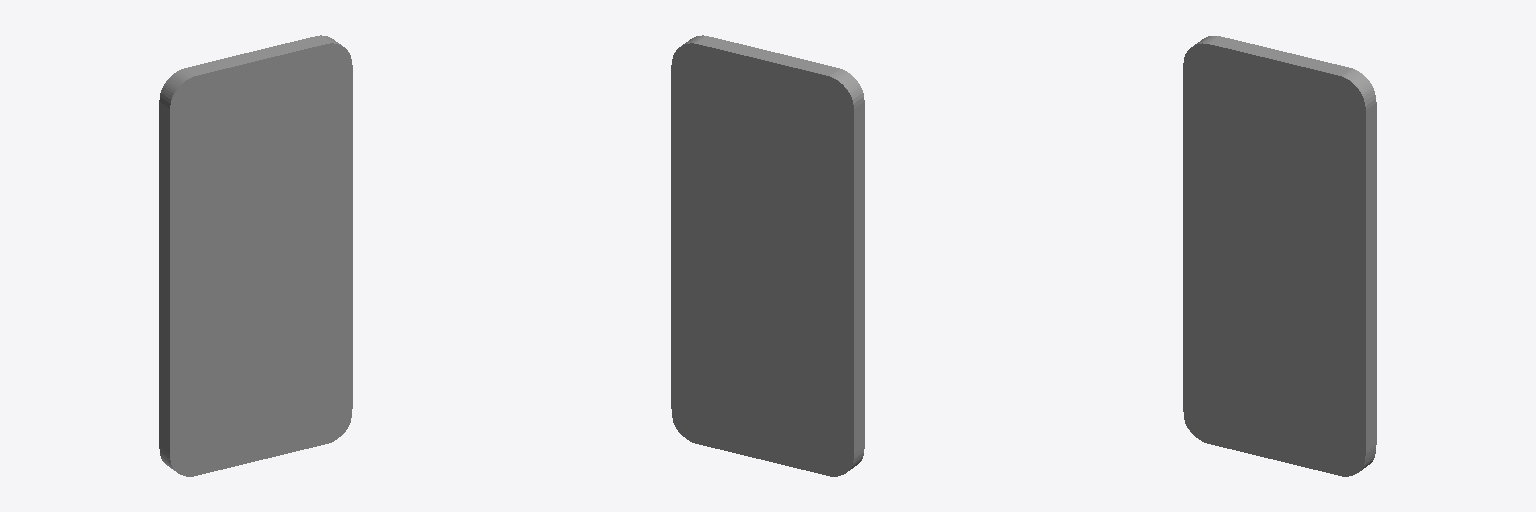
File: iPhone6.obj
3 renders of one model, left to right at view 1: azimuth 30°, elevation 25°; view 2: azimuth 150°, elevation 25°; view 3: azimuth 330°, elevation 25°, orthographic.
Bounding box in the file's own units: 3.73 × 7.81 × 0.3834.